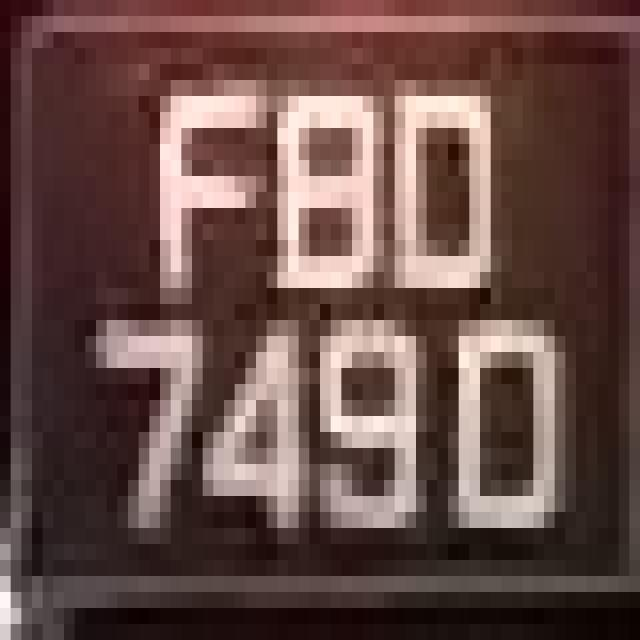4: (171, 304, 309, 560)
7: (64, 272, 213, 544)
9: (277, 304, 416, 560)
B: (235, 16, 384, 320)
D: (427, 336, 565, 560), (374, 80, 502, 320)
F: (117, 64, 267, 304)
